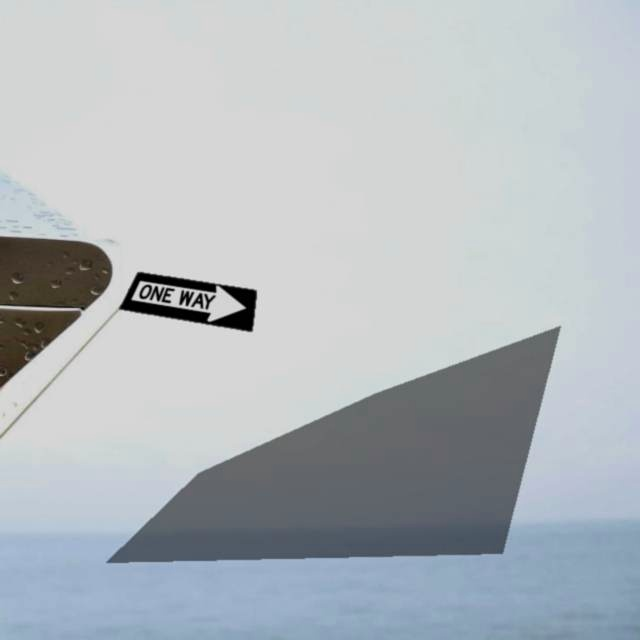ONE_WAY_ right: (118, 271, 257, 332)
